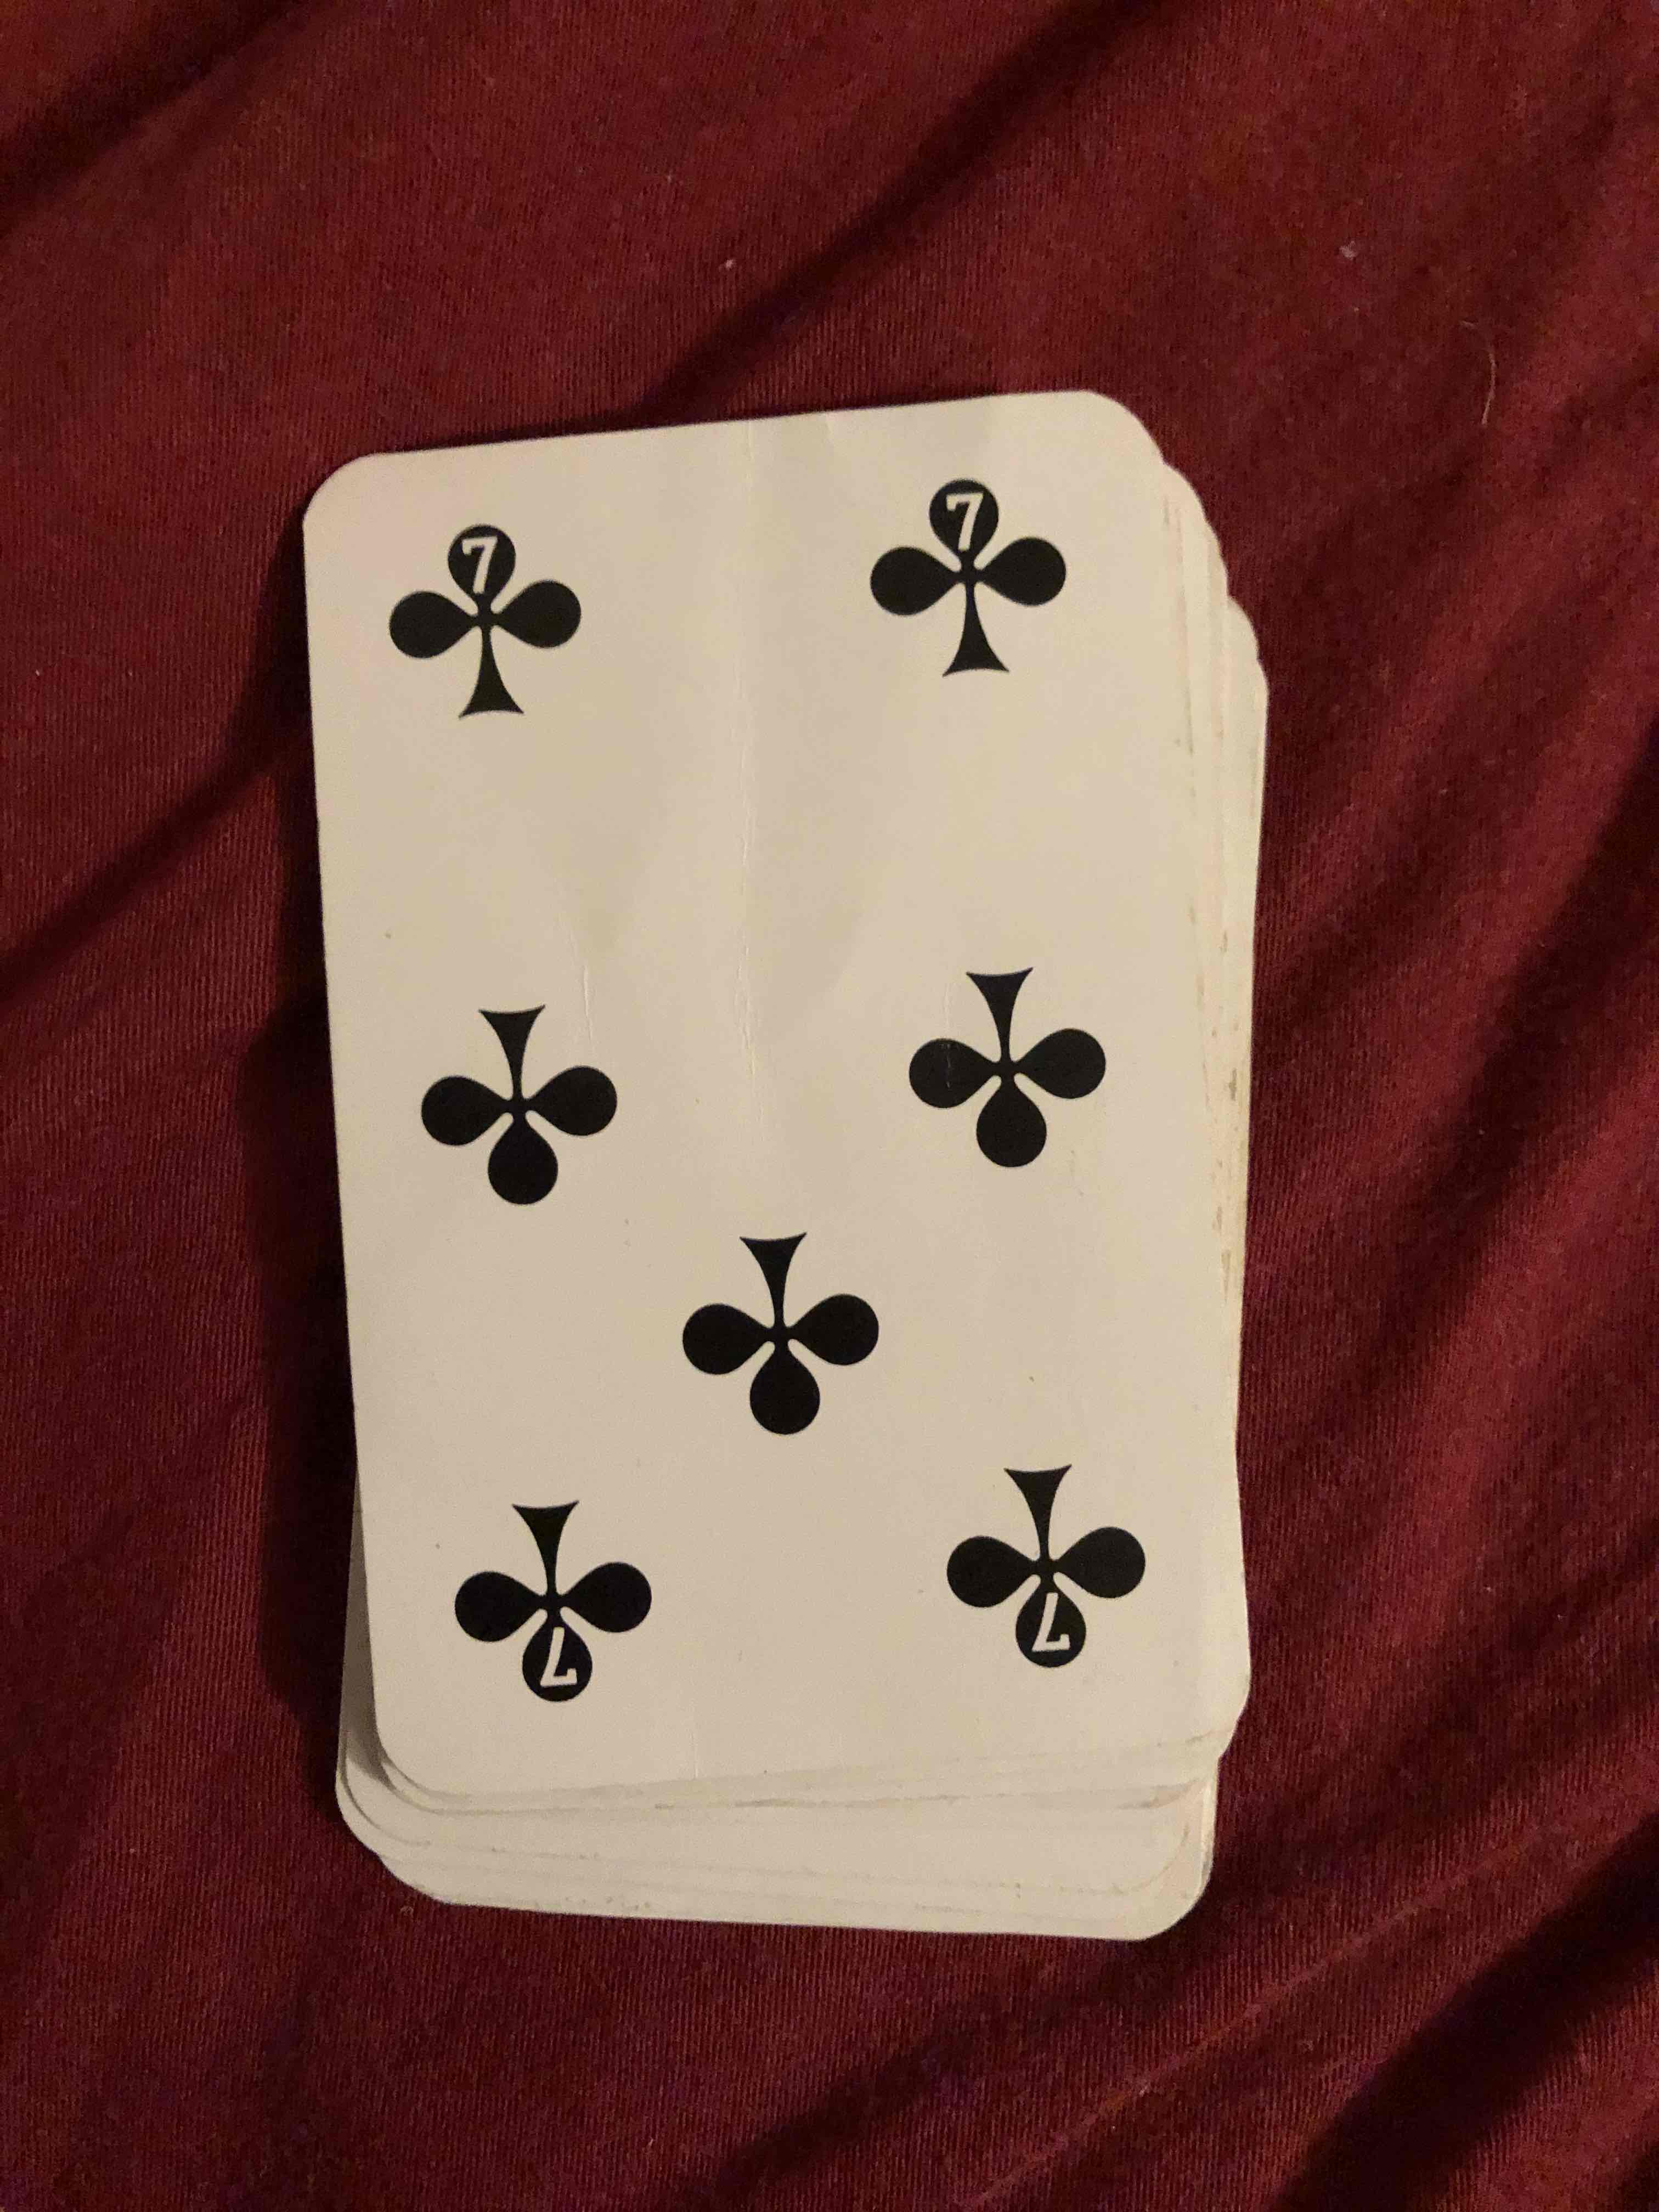clubs7: (308, 432, 1244, 1768)
